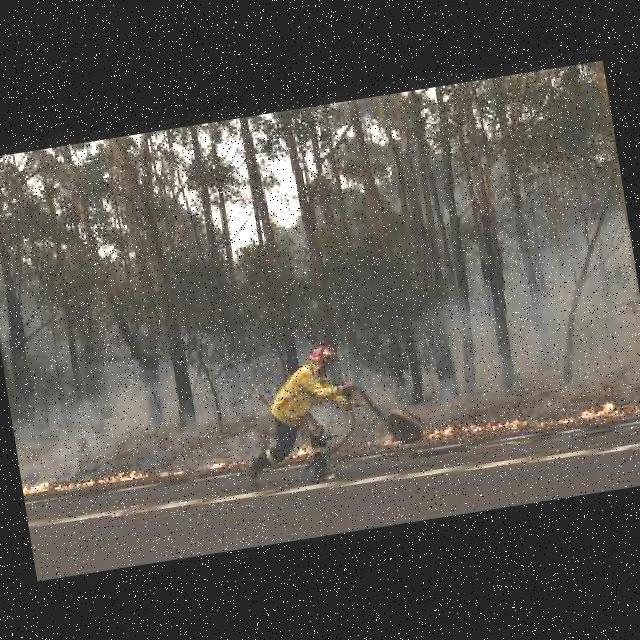Fire: (554, 396, 622, 422), (460, 412, 523, 434), (205, 454, 246, 470), (426, 421, 454, 437), (282, 446, 311, 458), (160, 467, 185, 477), (636, 394, 640, 413)
